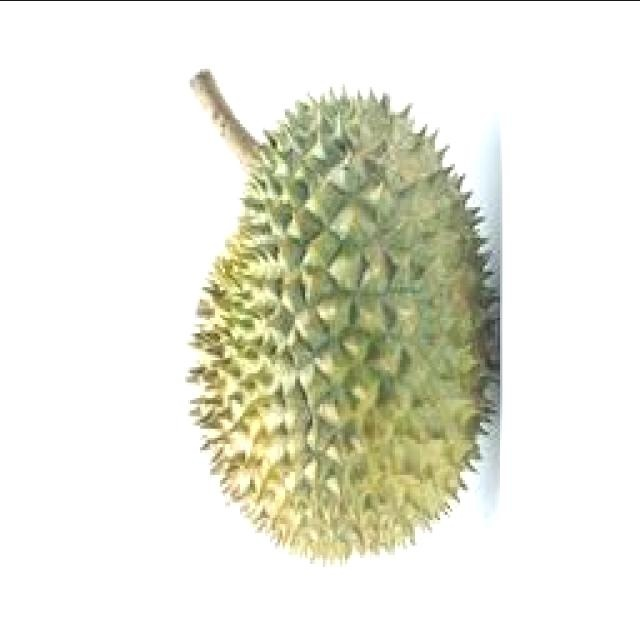agrume: (163, 67, 505, 569)
